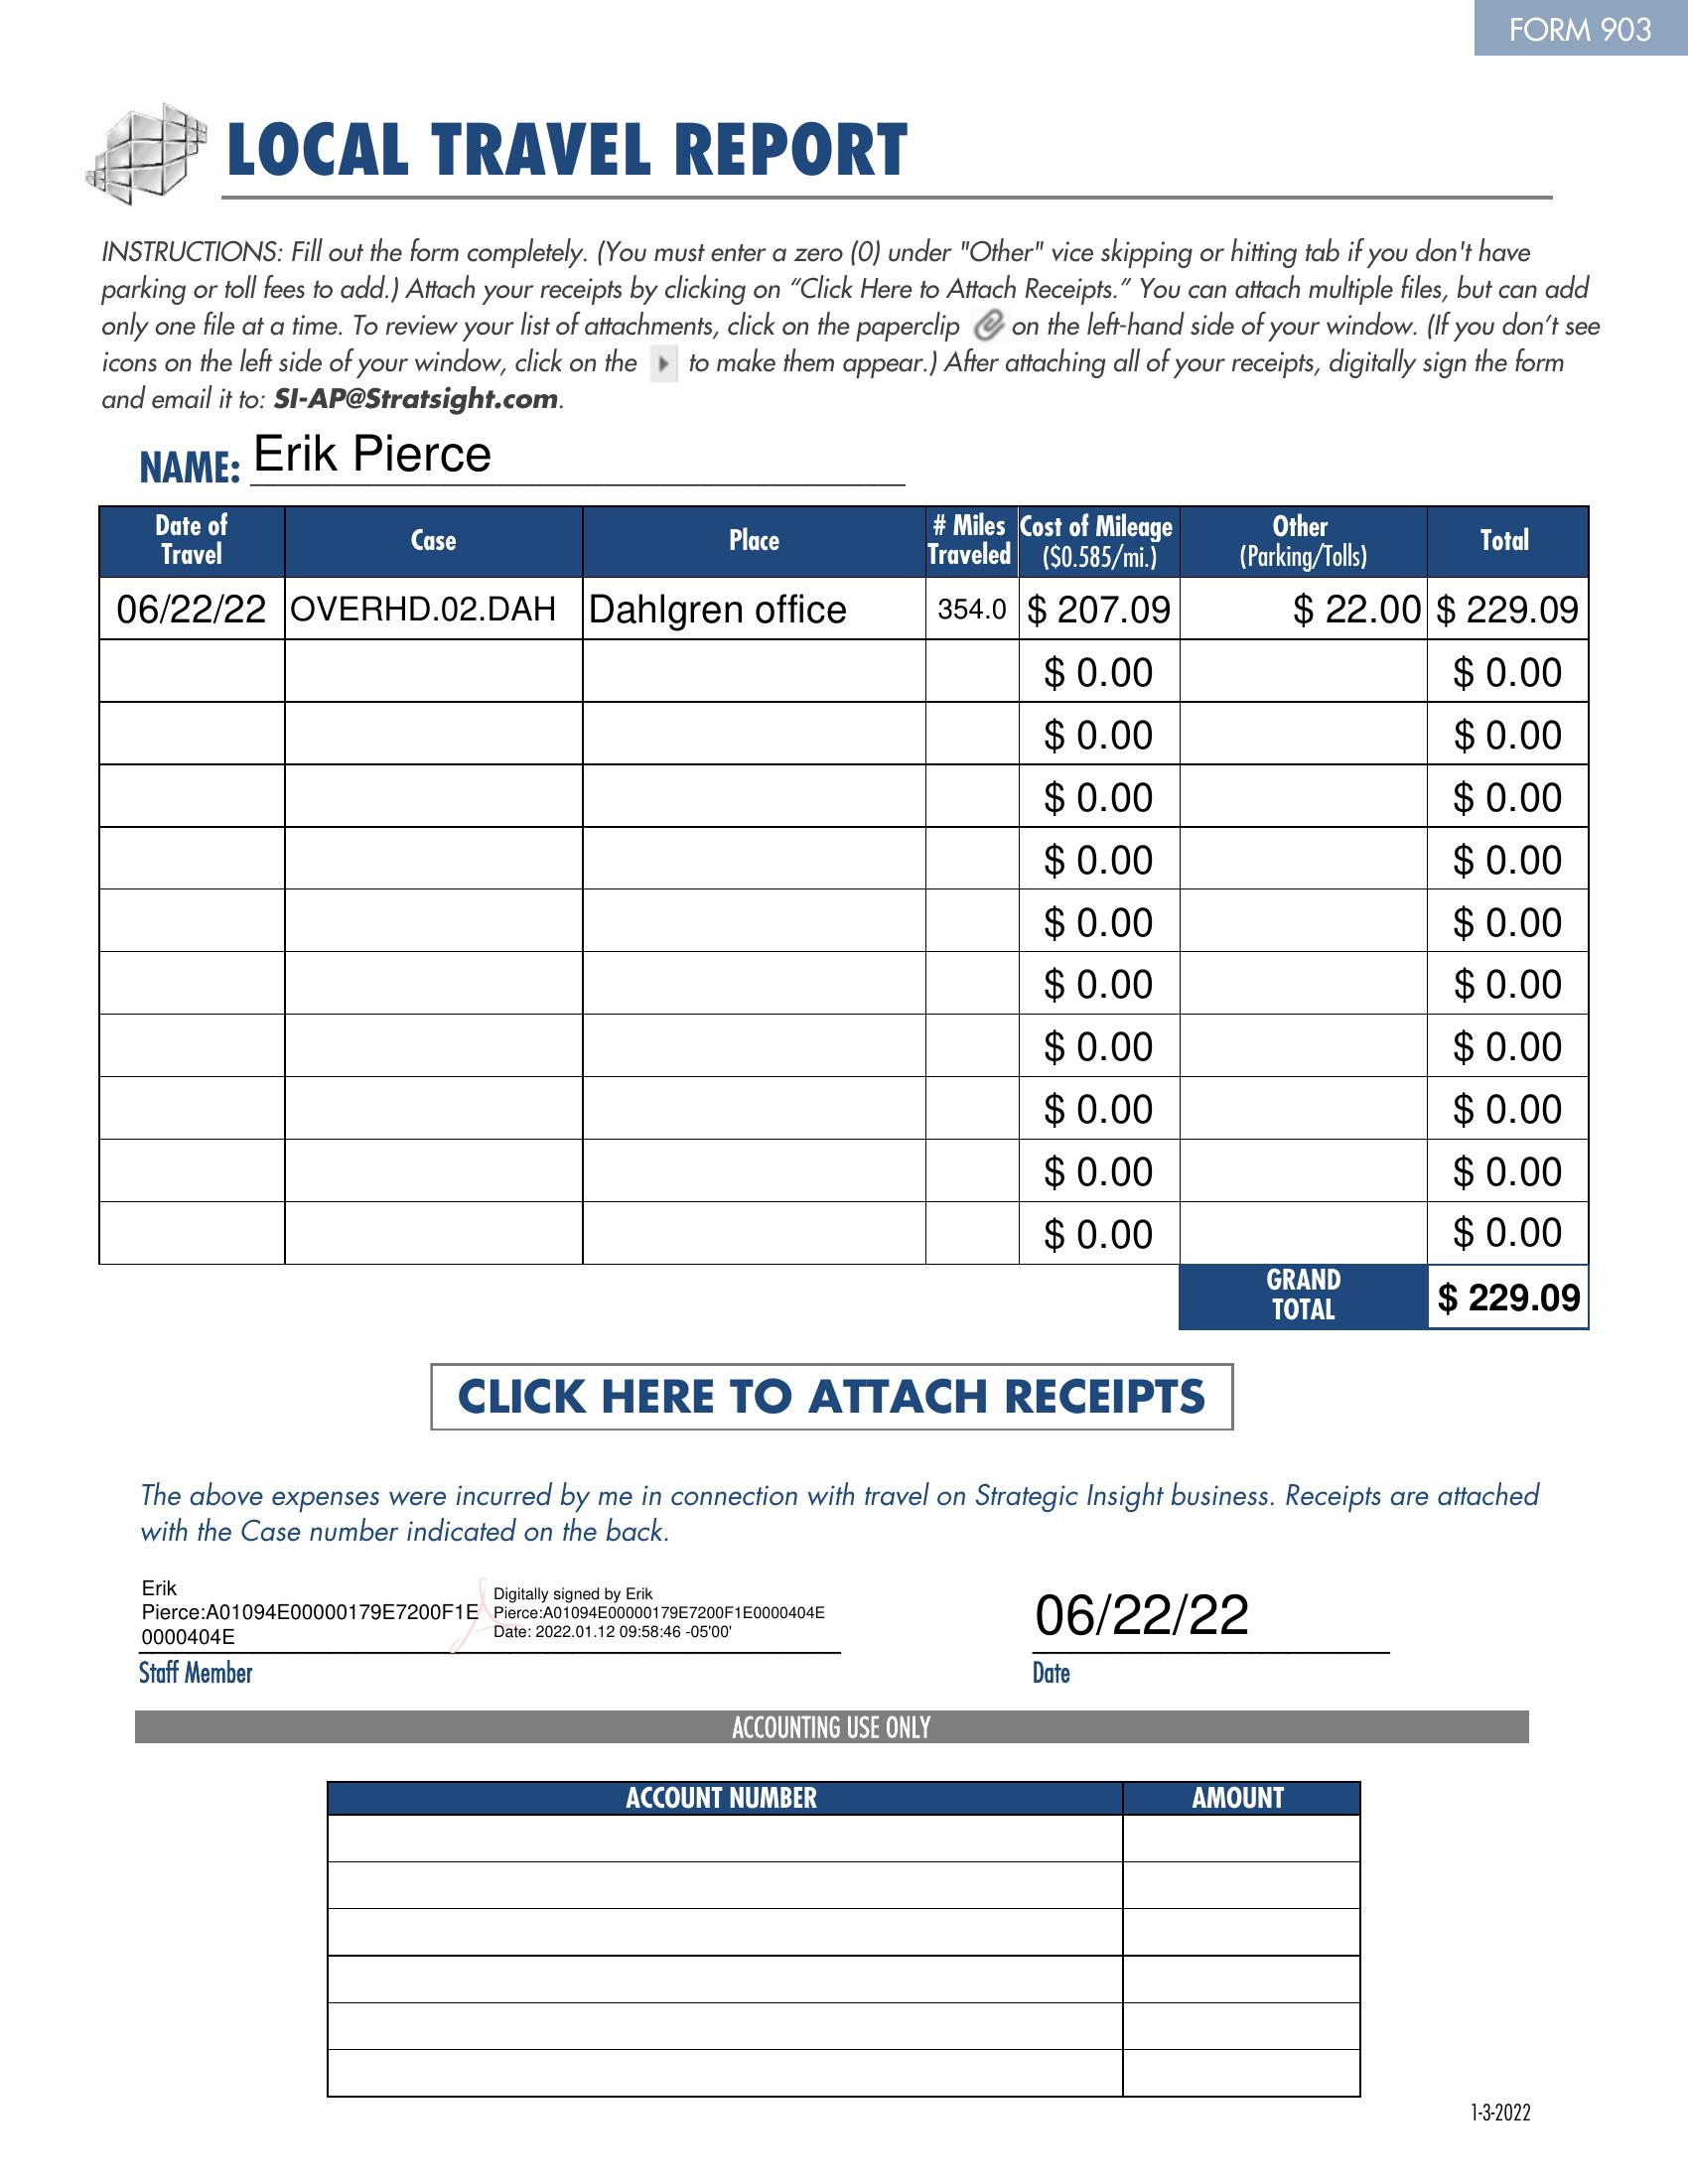table: (96, 502, 1596, 1267), (326, 1776, 1379, 2106)
